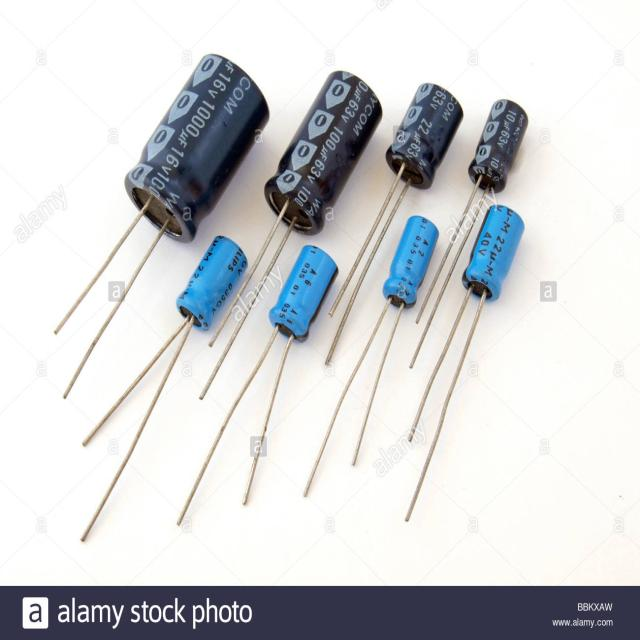Capacitor: (81, 237, 248, 541), (178, 246, 338, 524), (405, 204, 524, 522), (125, 53, 269, 242), (265, 72, 382, 235), (315, 304, 389, 465), (386, 82, 462, 196), (469, 99, 529, 191), (382, 215, 439, 308)
